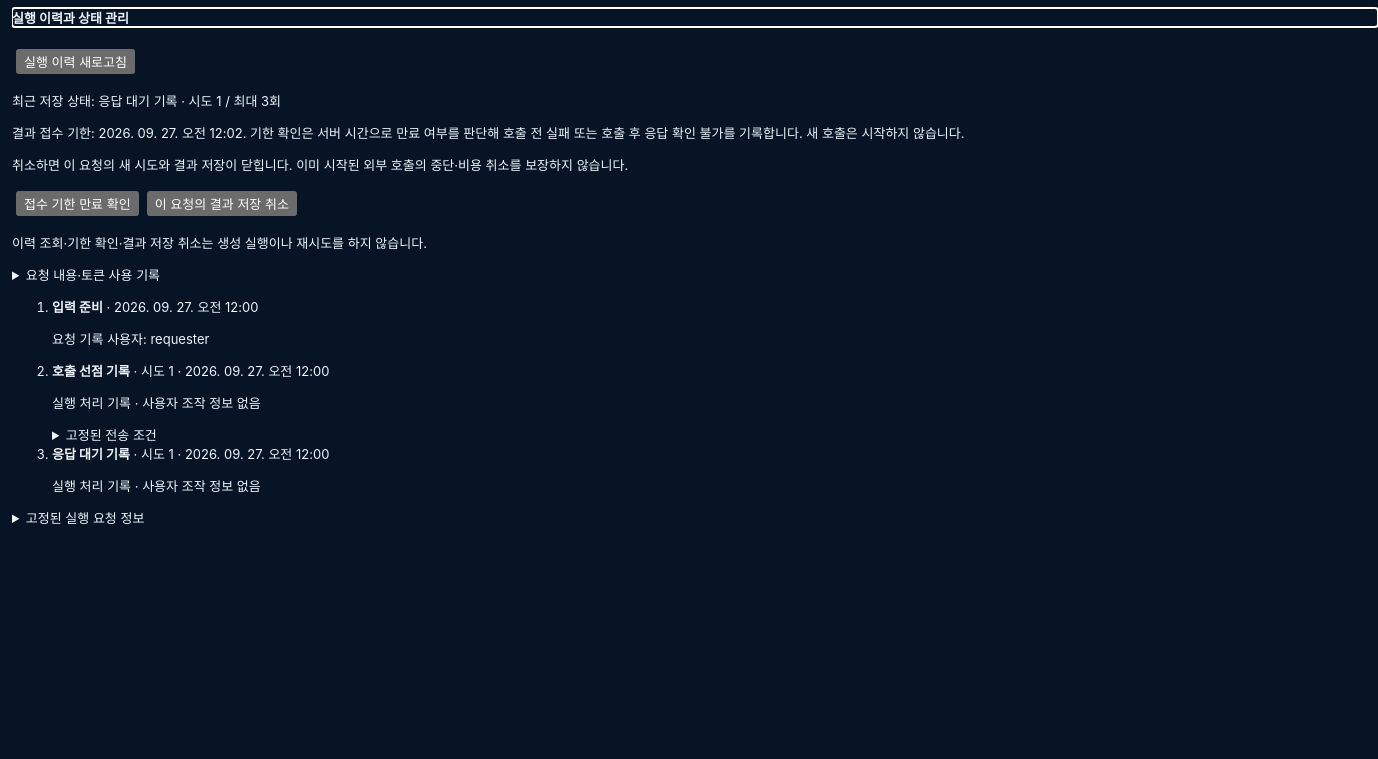
it: reads a Codex CLI manifest as a requested process plan without inventing OpenAI transport guarantees
Expected: the text "최근 저장 상태: 응답 대기 기록 · 시도 1 / 최대 3회" is shown, left=12, top=93, right=281, bottom=109
Click the heading "고정된 전송 조건" at (111, 435), box left=66, top=427, right=157, bottom=443
(page scrolled)
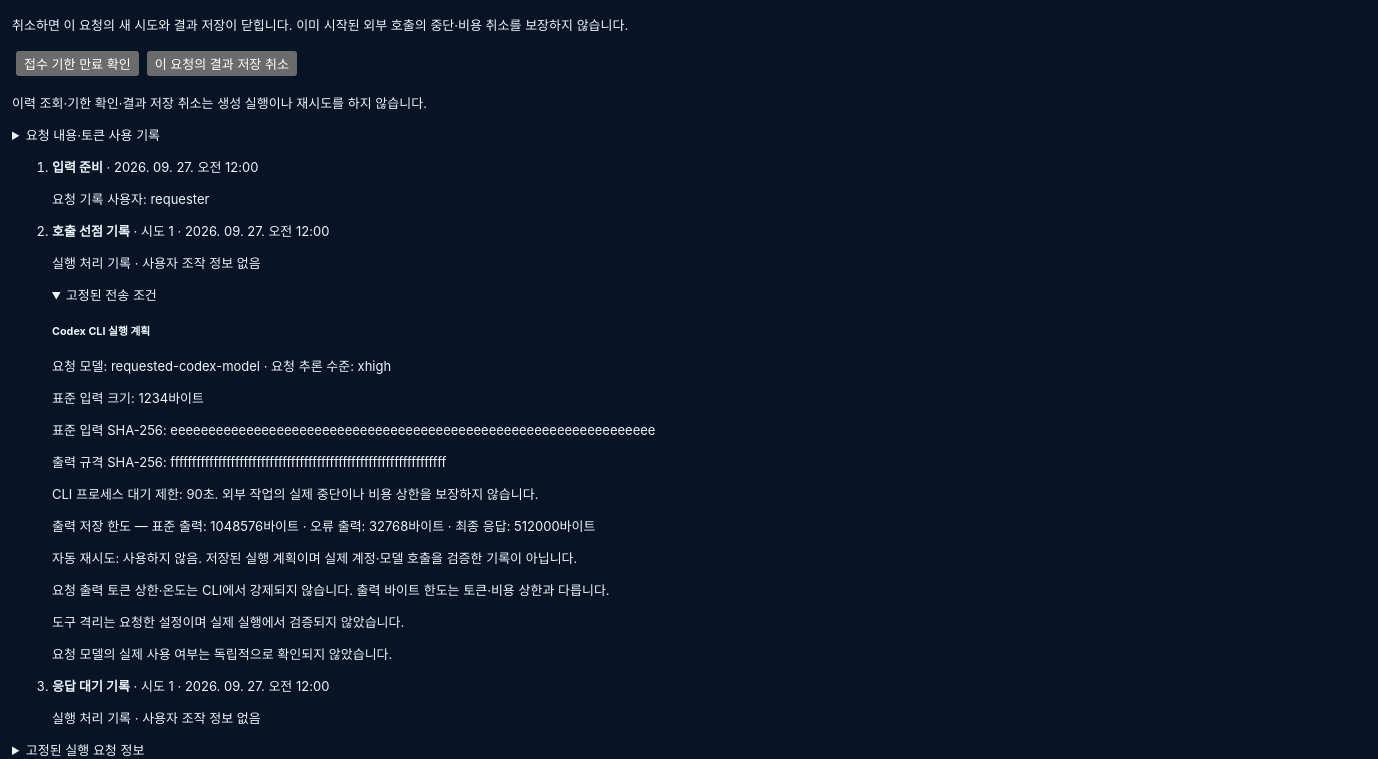
Result: the heading "Codex CLI 실행 계획" is shown at left=52, top=325, right=150, bottom=338
Result: the text "요청 모델: requested-codex-model · 요청 추론 수준: xhigh" is shown at left=52, top=358, right=391, bottom=374
Result: the text "표준 입력 크기: 1234바이트" is shown at left=52, top=390, right=204, bottom=406
